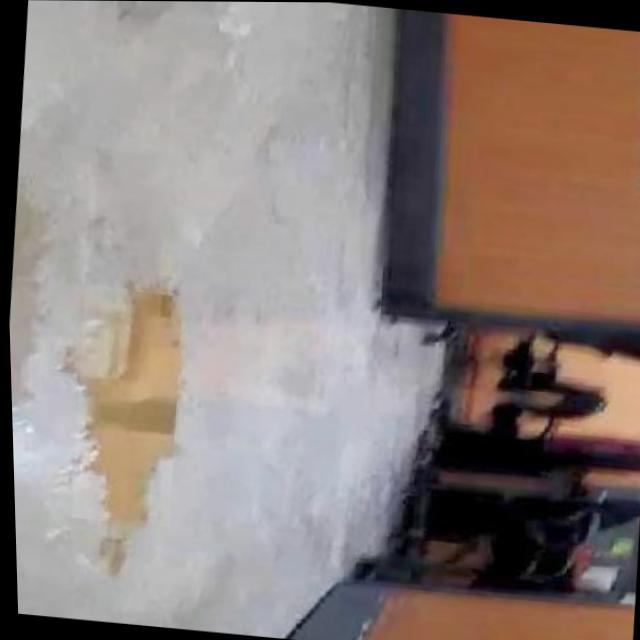spillage: (77, 289, 175, 521)
